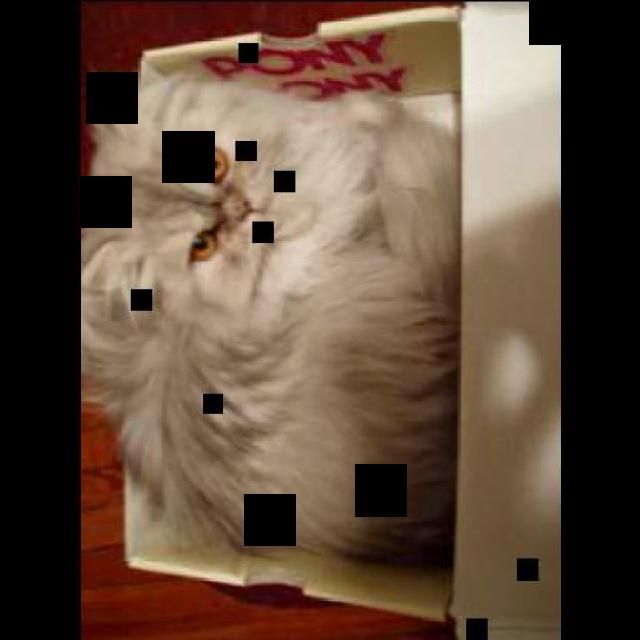unauthorized: (78, 61, 460, 568)
